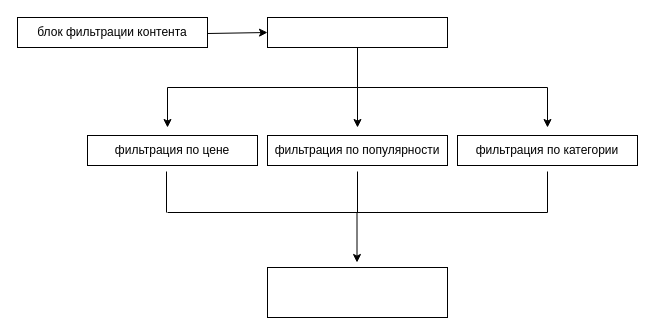
Some shapes in this 655 by 335 pixel diagram are drawn without their labels. The box of each missing label's shape, as (x1, y1, x2, y2) in pixels:
выбор режима фильтрации: (266, 16, 448, 48)
отображение отфильтрованного контента: (266, 266, 448, 318)
